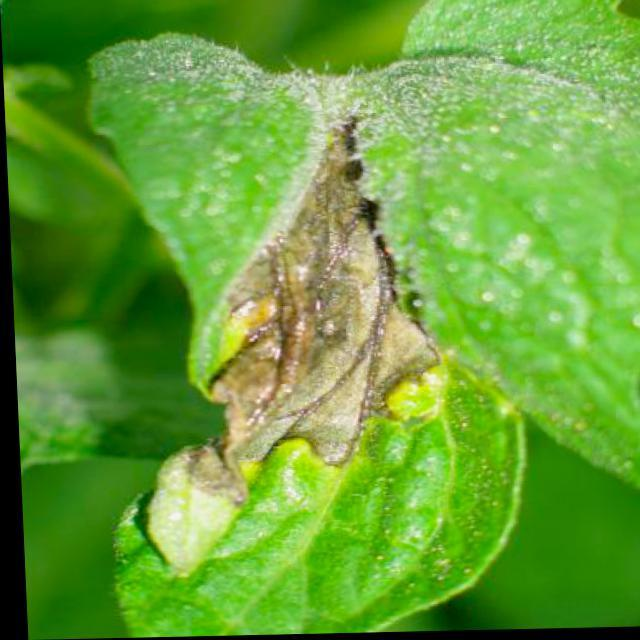Tomato mosaic virus leaf: (57, 0, 639, 628)
